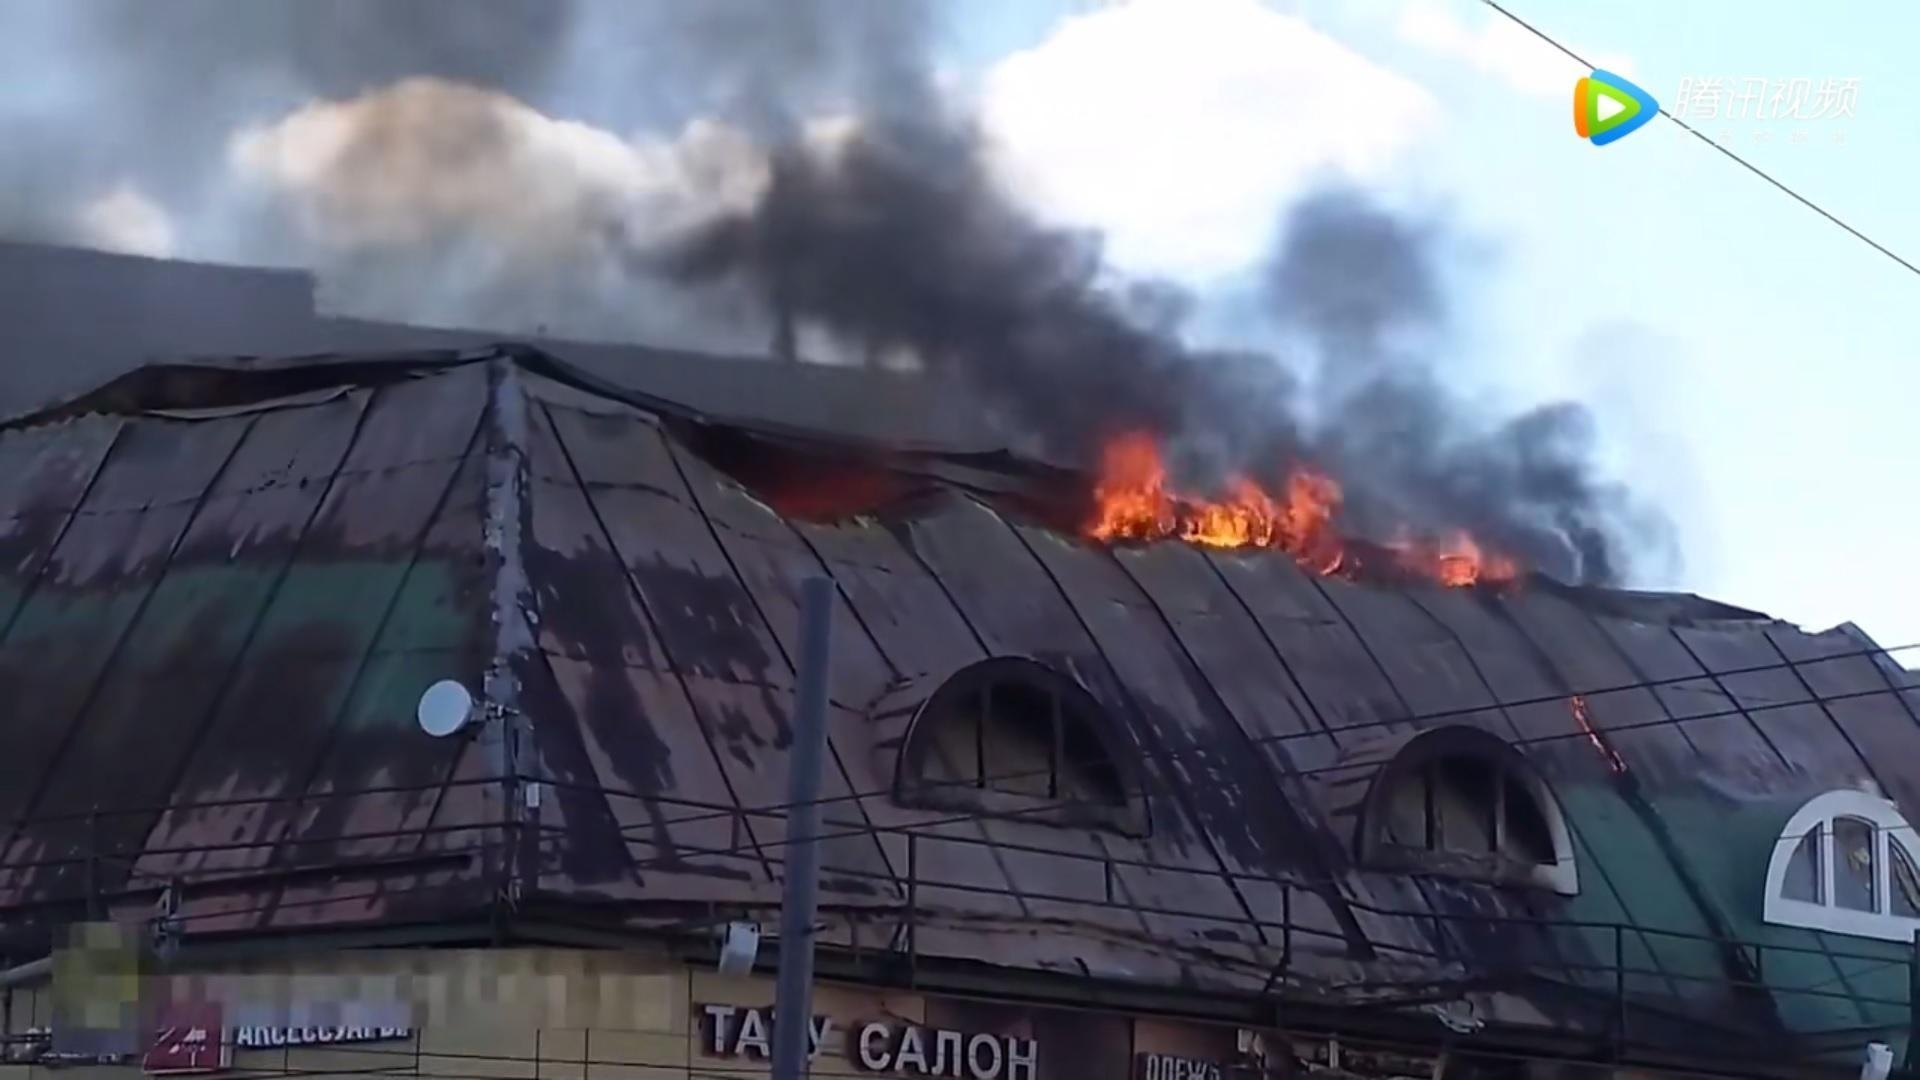fire: (1085, 431, 1345, 556)
